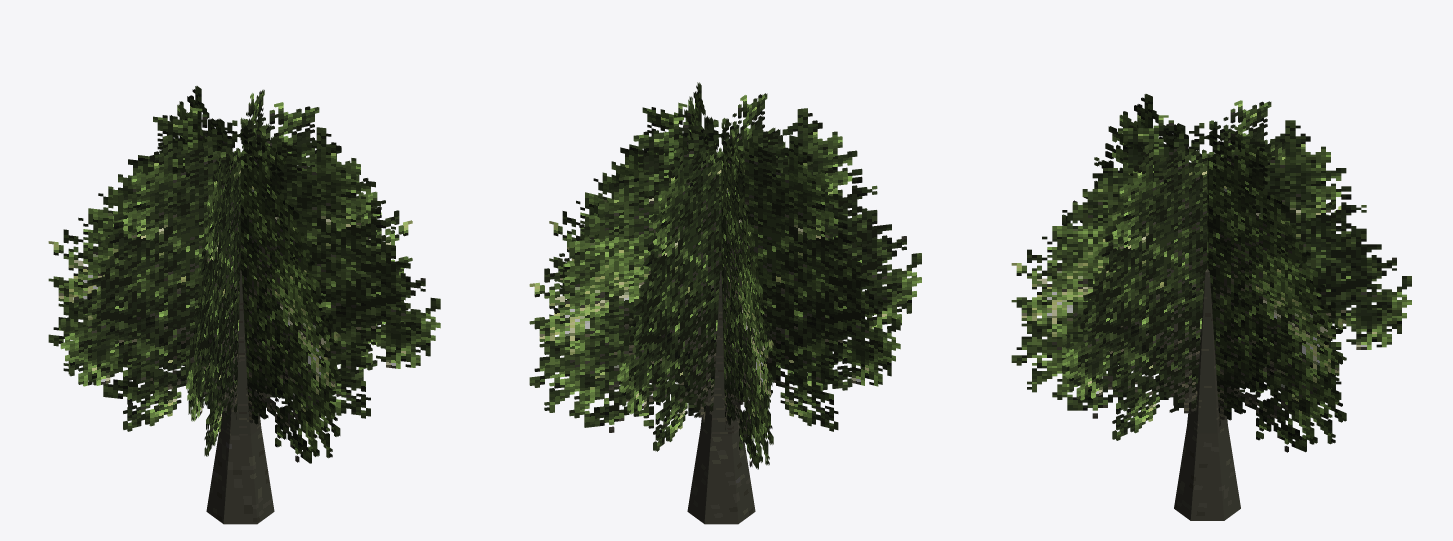
File: tree24.glb
3 renders of one model, left to right at view 1: azimuth 30°, elevation 25°; view 2: azimuth 150°, elevation 25°; view 3: azimuth 270°, elevation 25°, orthographic.
Parts seen in each view (by area): view 1: tree24; view 2: tree24; view 3: tree24.
Part boxes in pixels (<box>): tree24: <box>48,86,440,524</box>; tree24: <box>529,82,921,524</box>; tree24: <box>1011,94,1411,520</box>.
Bounding box in the file's own units: 8.45 × 8 × 8.45.
1 material, 1 textured.
